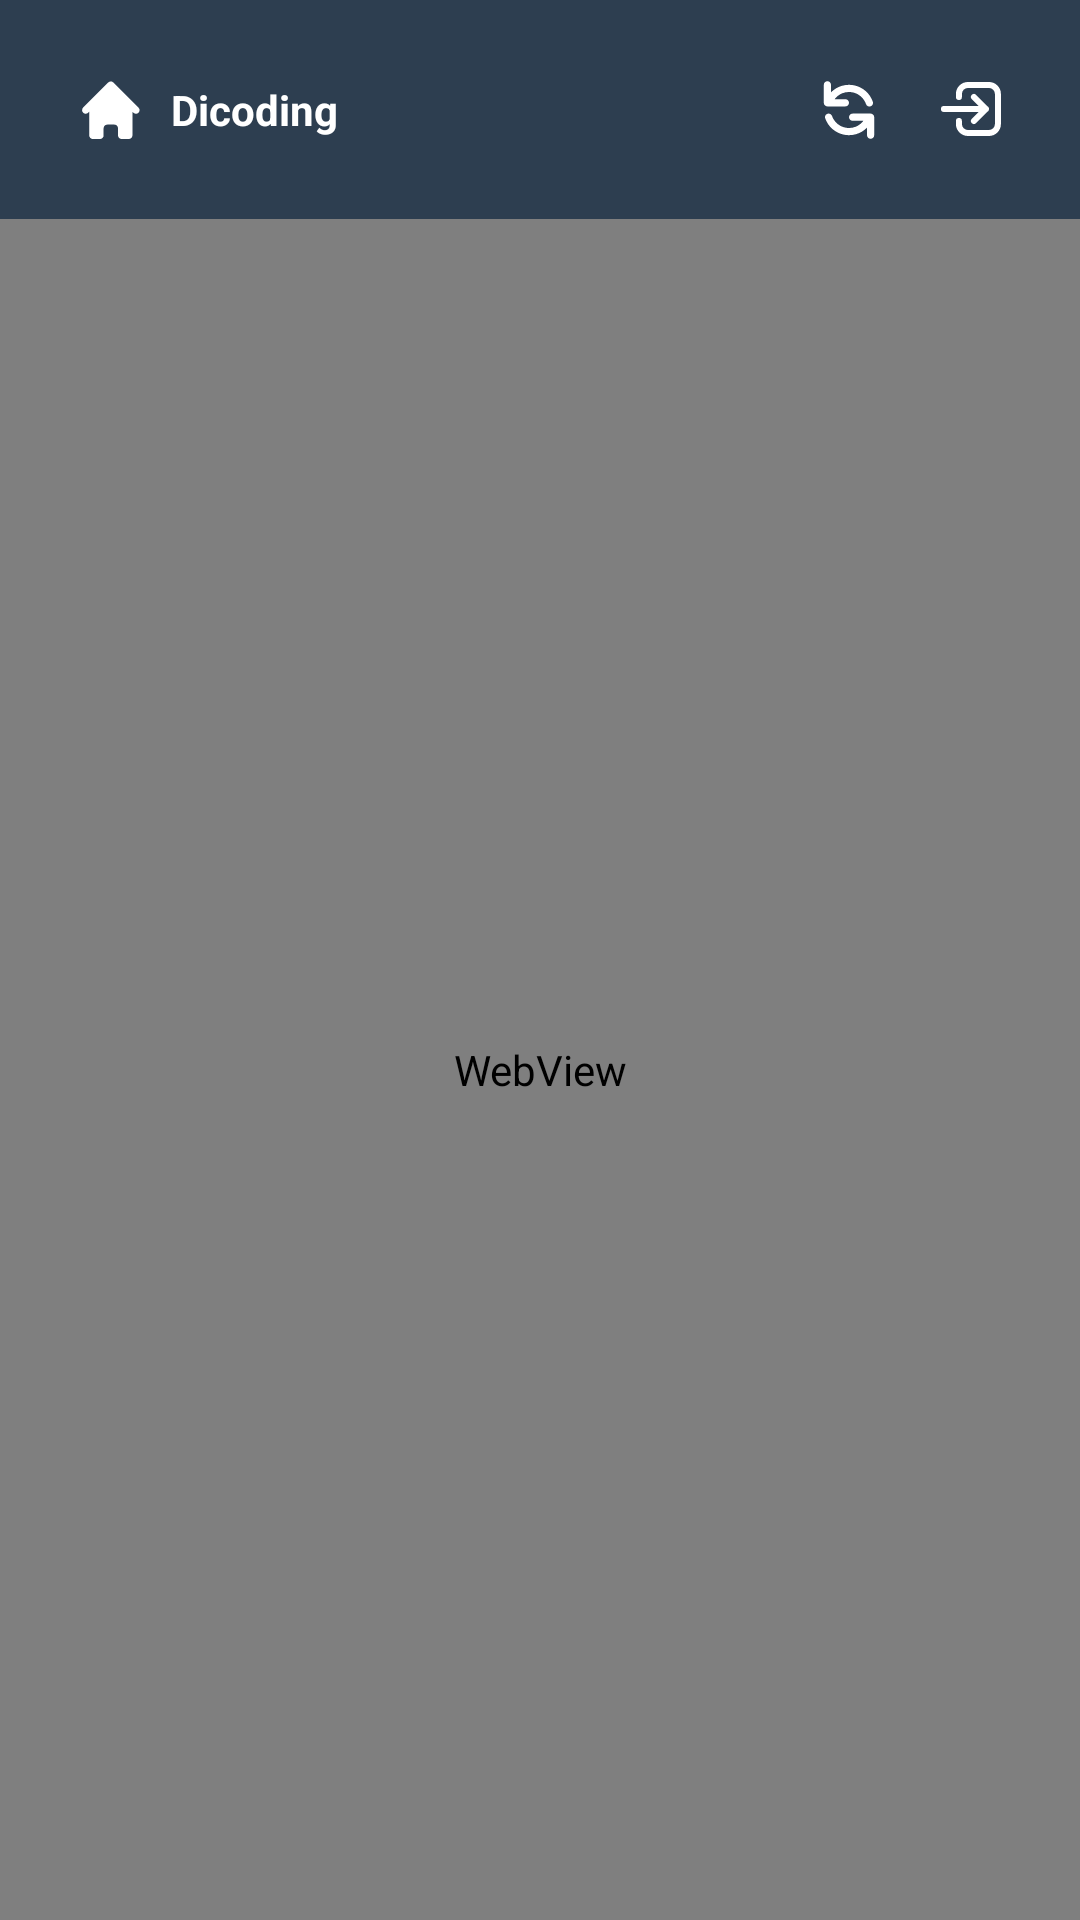

Screen size 1080 × 1920. Icon name, then its box in pixels as {"left": x1, "top": y1, "right": x2, "bottom": y2}:
Beranda: {"left": 82, "top": 81, "right": 140, "bottom": 139}
Segarkan laman: {"left": 823, "top": 81, "right": 875, "bottom": 139}
